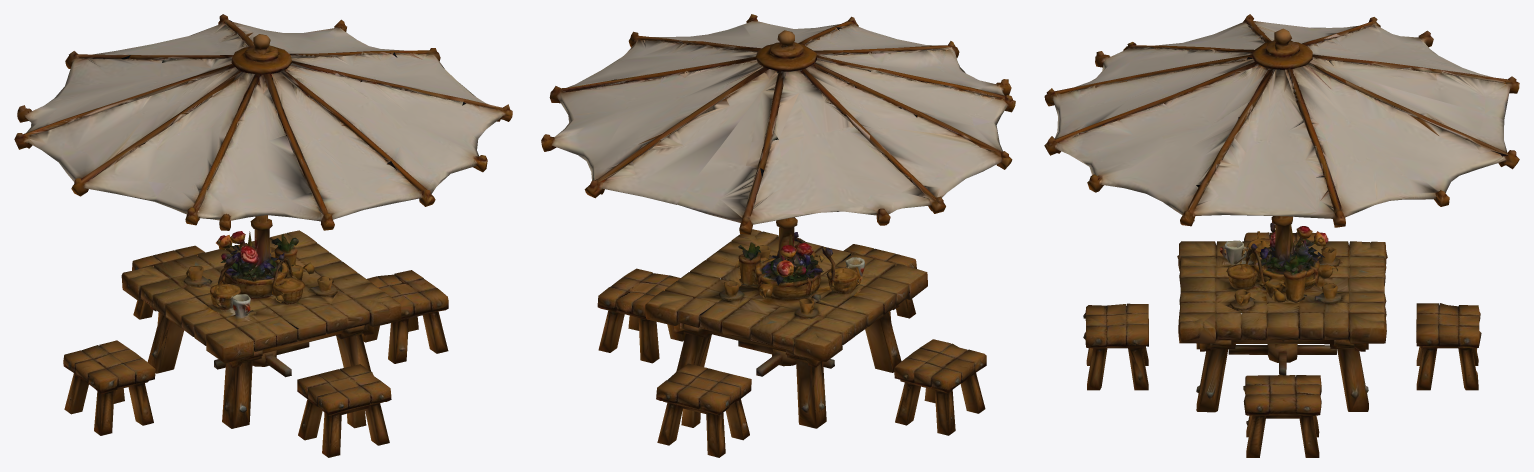
Rendered from mesa_de_picnic.glb.
The picture shows the model from 3 angles, left to right: view 1: azimuth 30°, elevation 25°; view 2: azimuth 150°, elevation 25°; view 3: azimuth 270°, elevation 25°; orthographic projection.
Parts seen in each view (by area): view 1: mesa_de_picnic; view 2: mesa_de_picnic; view 3: mesa_de_picnic.
Boxes of the visible parts, x1,y1,x2,y2 form: mesa_de_picnic: (14, 14, 512, 457); mesa_de_picnic: (541, 14, 1015, 457); mesa_de_picnic: (1044, 14, 1519, 457).
Size of what is drawn, in the model's own units: 0.9338 by 0.75 by 0.9318.
1 material, 1 textured.
